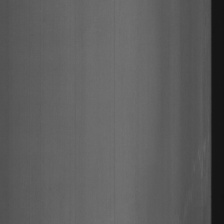silk_spot: (190, 115, 209, 186)
